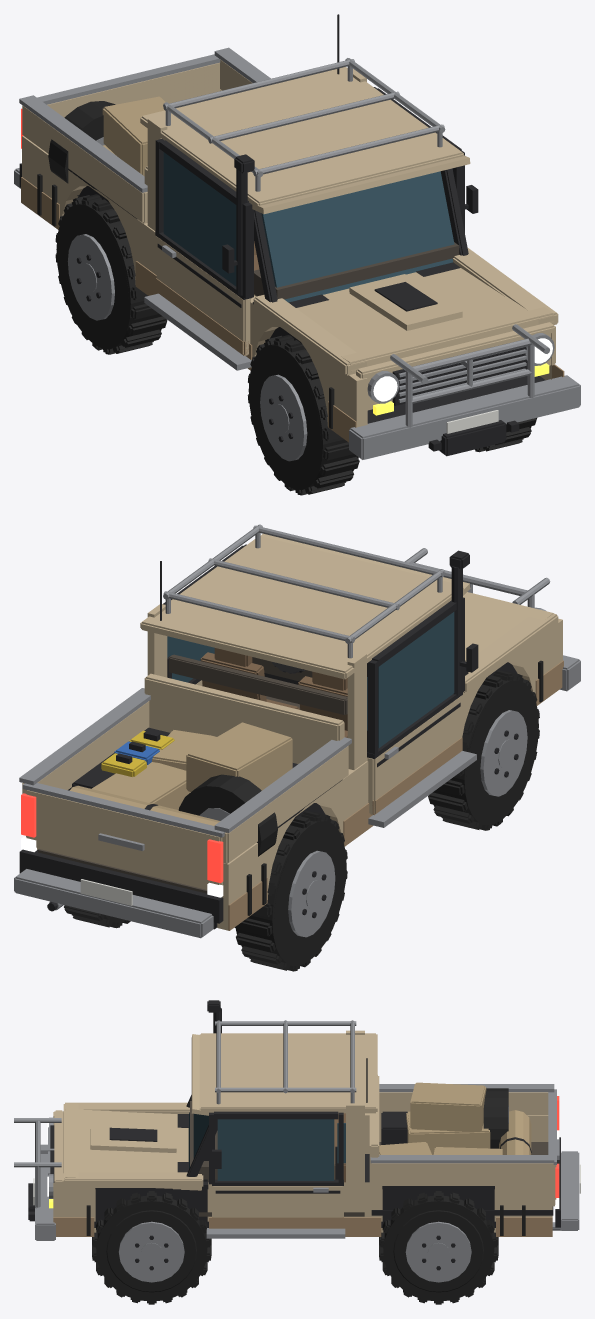
The model's file is voiture-djenne.glb.
3 renders of one model, top to bottom at view 1: azimuth 30°, elevation 25°; view 2: azimuth 150°, elevation 25°; view 3: azimuth 270°, elevation 25°, orthographic. The views are drawn at different scales.
Parts seen in each view (by area): view 1: Carrosserie, Porte_D, Roue_AvD, Roue_ArD, Porte_G, Roue_AvG; view 2: Carrosserie, Porte_D, Roue_ArD, Roue_AvD, Porte_G, Roue_ArG; view 3: Carrosserie, Porte_G, Roue_ArG, Roue_AvG.
Part boxes in pixels (<box>): Carrosserie: <box>14,14,580,459</box>; Porte_D: <box>155,139,253,355</box>; Roue_AvD: <box>247,335,359,495</box>; Roue_ArD: <box>55,194,167,354</box>; Porte_G: <box>374,87,464,232</box>; Roue_AvG: <box>475,418,536,452</box>; Carrosserie: <box>14,524,580,938</box>; Porte_D: <box>367,597,464,815</box>; Roue_ArD: <box>234,811,347,971</box>; Roue_AvD: <box>428,670,539,830</box>; Porte_G: <box>163,544,246,685</box>; Roue_ArG: <box>64,905,130,928</box>; Carrosserie: <box>14,1000,580,1240</box>; Porte_G: <box>209,1111,343,1227</box>; Roue_ArG: <box>379,1191,498,1304</box>; Roue_AvG: <box>92,1191,211,1304</box>.
Size of the model in its own units: 2.25 by 2.77 by 5.93.
